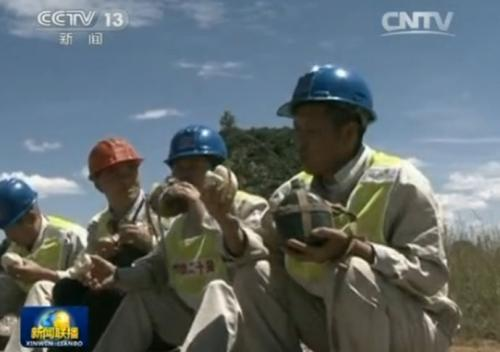helmet: (272, 51, 387, 174), (83, 131, 148, 207), (163, 119, 232, 190), (1, 171, 43, 230)
